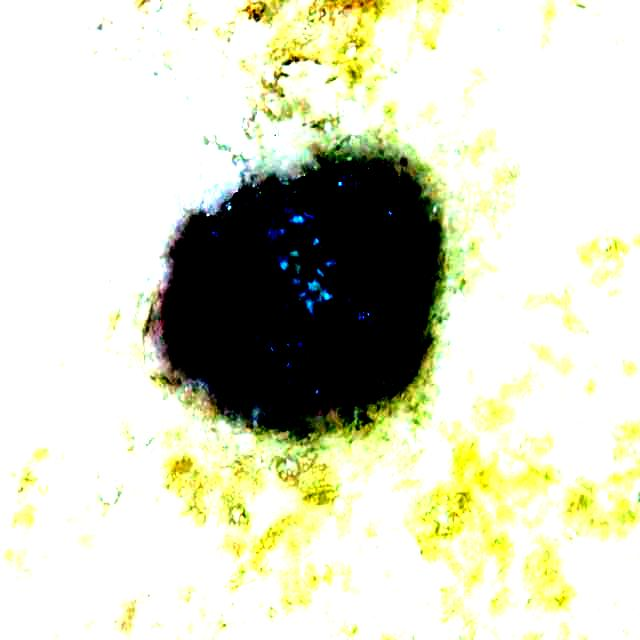AKIEC: (162, 158, 438, 432)
